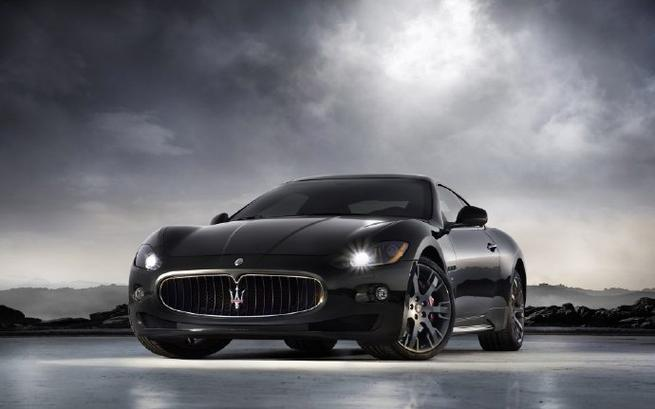汽车: (130, 175, 530, 355)
